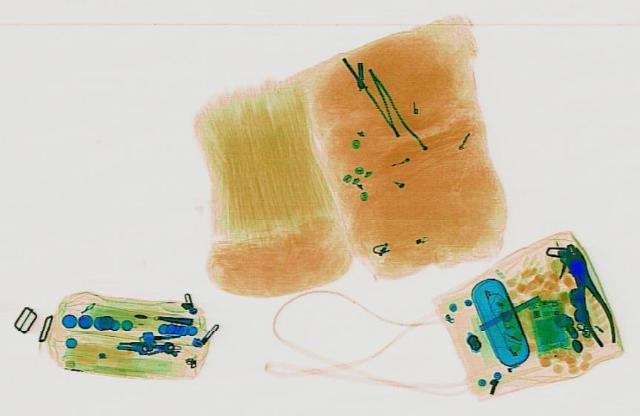Pliers: (554, 239, 624, 346)
